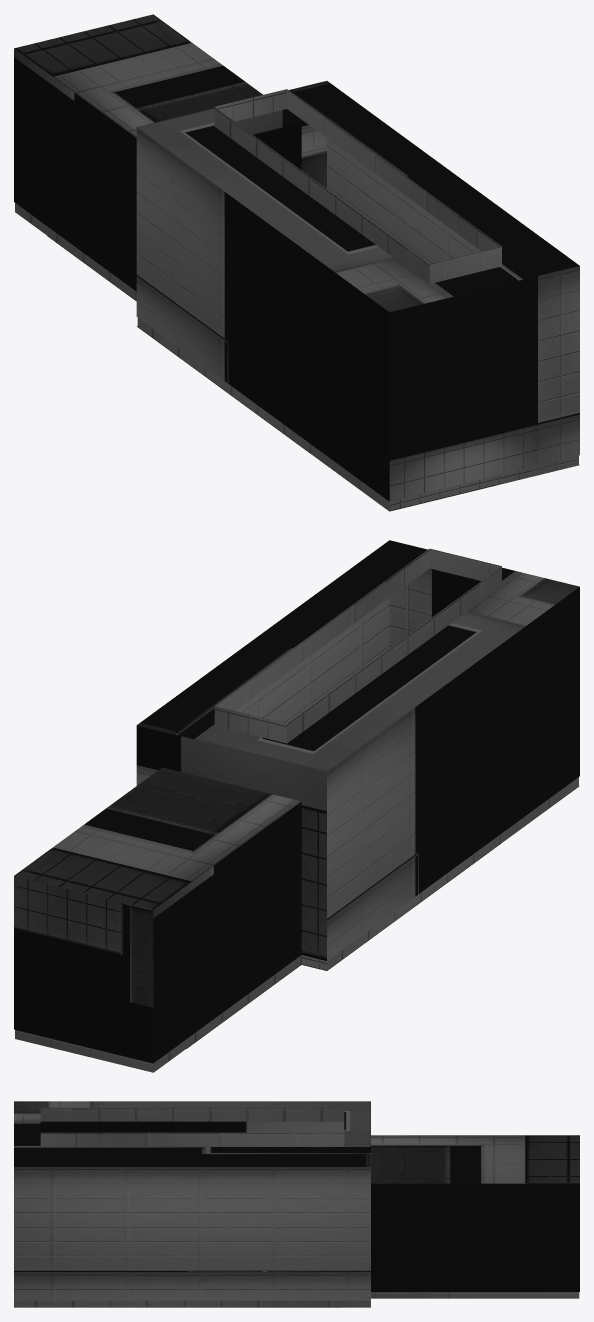
Rendered from there_is_something_image_only.glb.
The picture shows the model from 3 angles, top to bottom: view 1: azimuth 30°, elevation 25°; view 2: azimuth 150°, elevation 25°; view 3: azimuth 270°, elevation 25°; orthographic projection. The views are drawn at different scales.
Parts seen in each view (by area): view 1: Cube_0; view 2: Cube_0; view 3: Cube_0.
Part boxes in pixels (bbox=[...]): Cube_0: bbox=[14, 14, 579, 511]; Cube_0: bbox=[14, 540, 579, 1072]; Cube_0: bbox=[14, 1101, 579, 1307].
Bounding box in the file's own units: 4.2 × 4.62 × 15.32.
3 materials, 3 textured.
